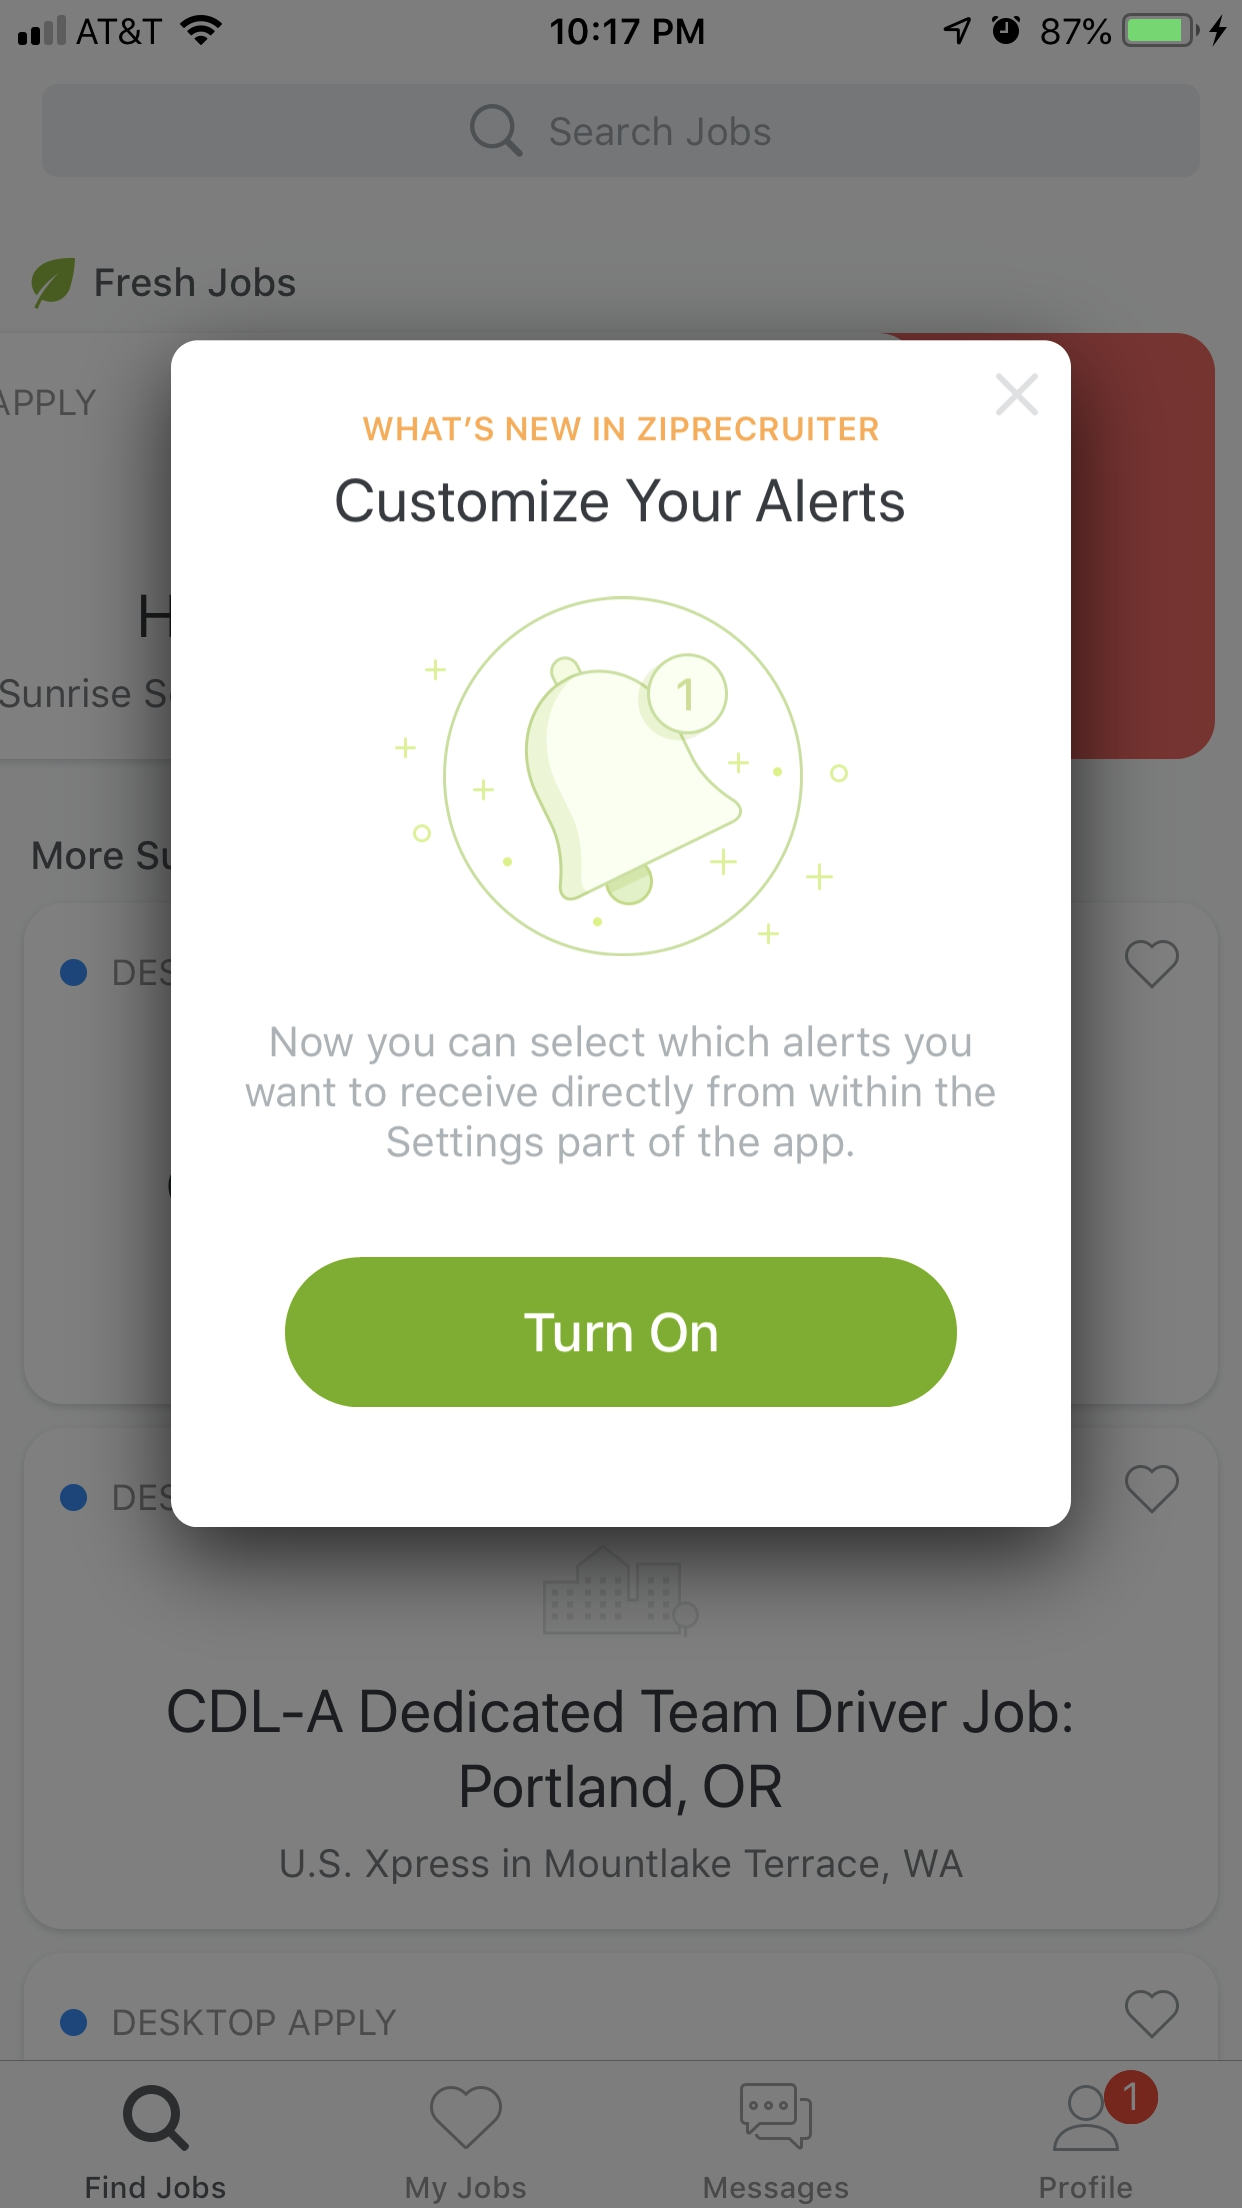Icon: (995, 373, 1039, 417)
Image: (399, 596, 851, 958)
Modal: (170, 340, 1072, 1529)
Text: (246, 1024, 996, 1168), (337, 478, 905, 525), (362, 416, 880, 441)
TextButton: (284, 1256, 958, 1407)
UpperTaskBar: (2, 2, 1242, 49)
